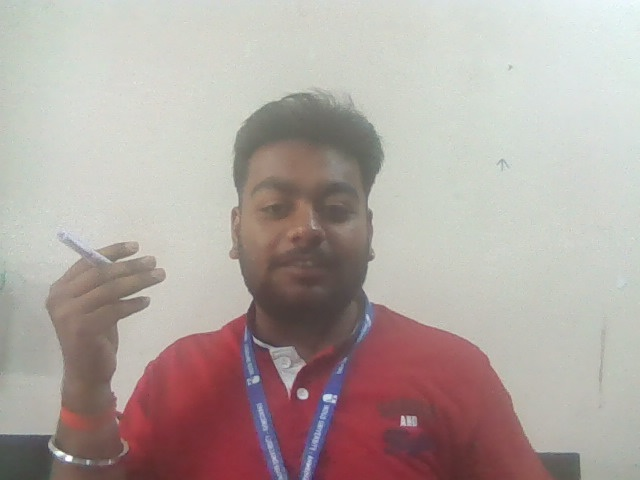smoking: (43, 225, 169, 375)
